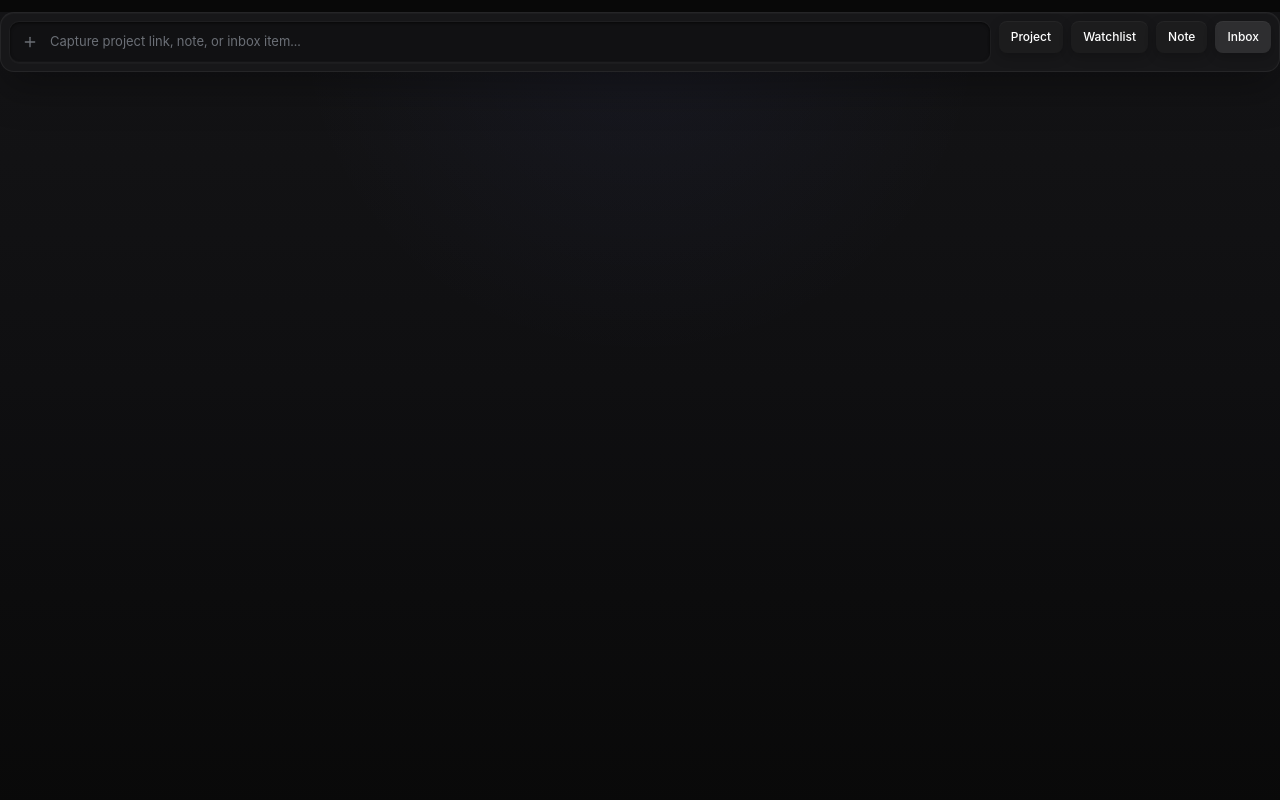
Test case: DashboardQuickCapture › keeps the default Inbox intent in Inbox
Type "Remember this" into the field named "Quick capture" at [514, 42], box [50,32,978,52]
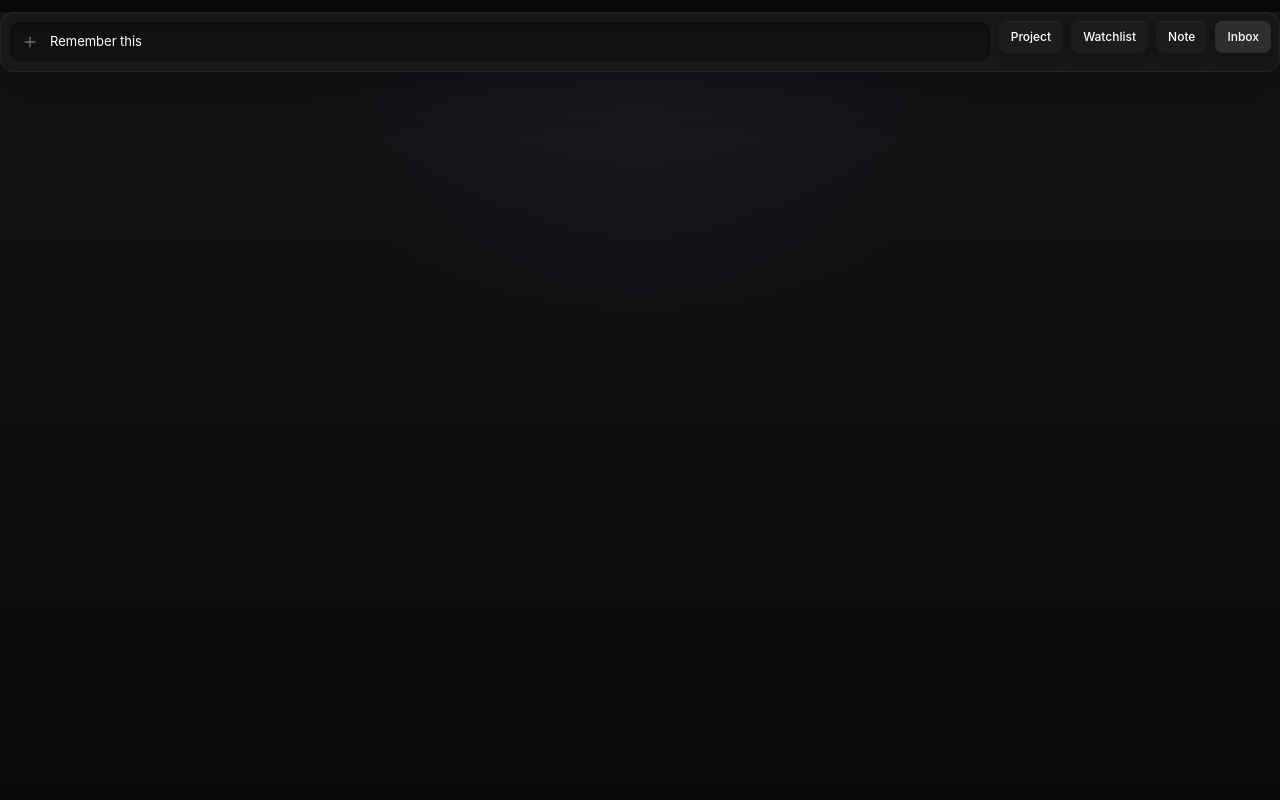
Submit the form named "Quick capture", box [9,21,991,62]
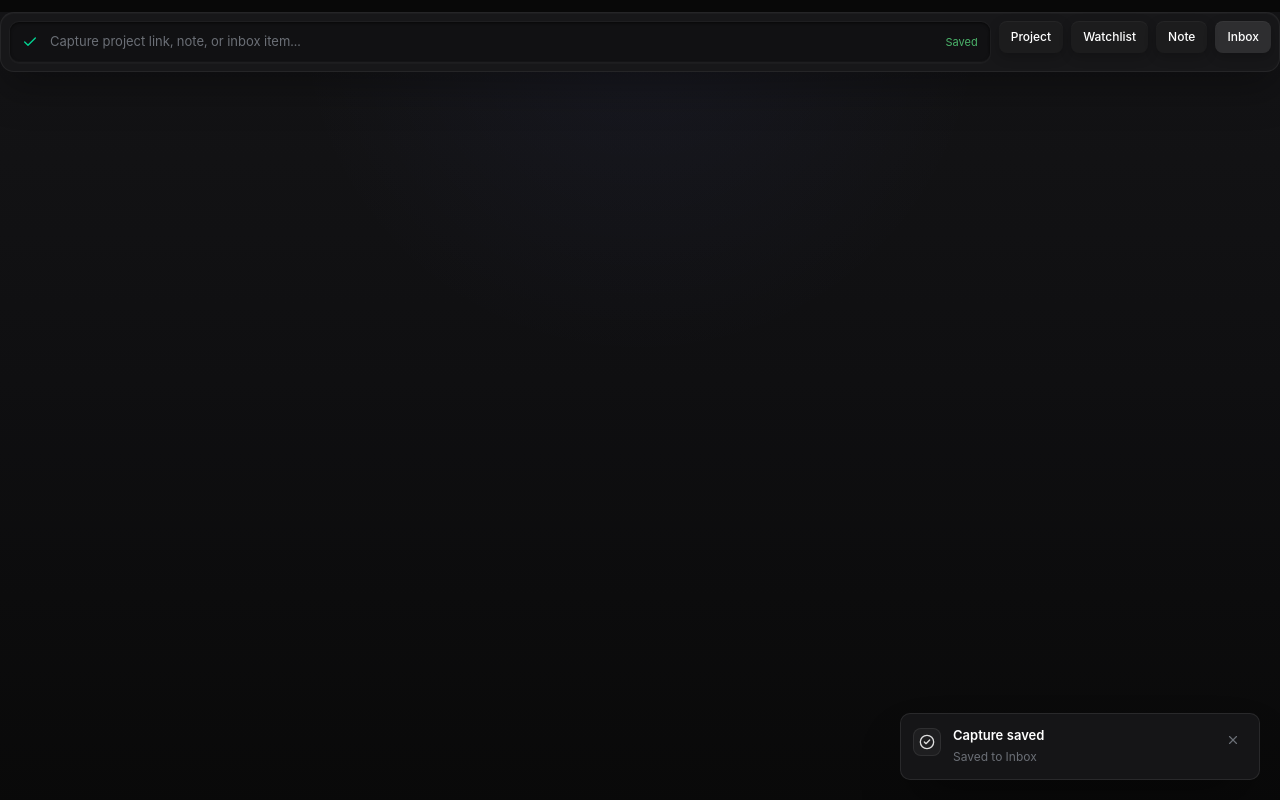
Expected: the text "Saved to Inbox" is shown, [953,749,1037,764]
